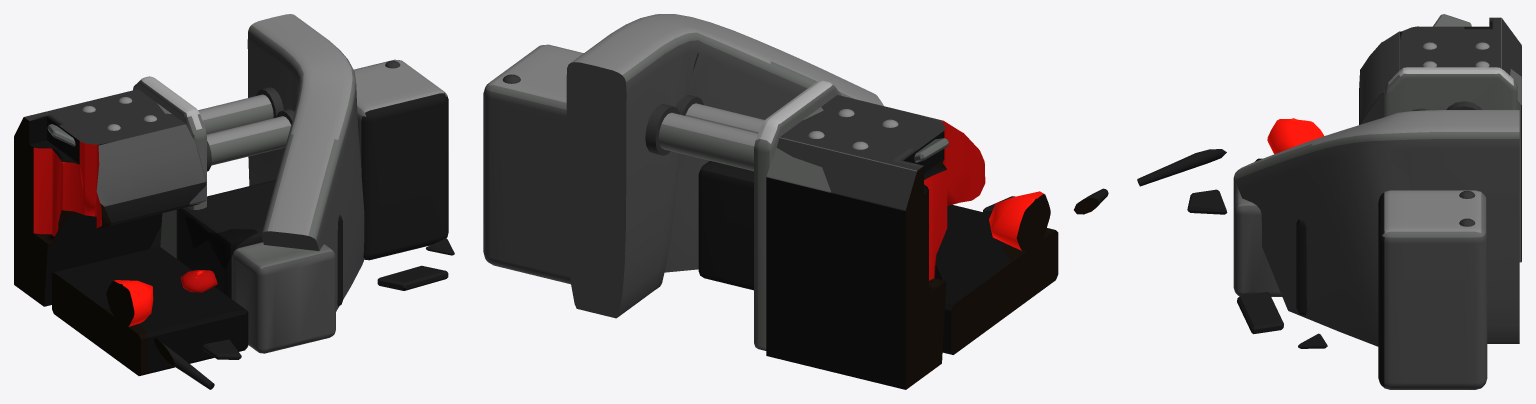
File: jaw_gun_a_right_wreck.glb
The picture shows the model from 3 angles, left to right: view 1: azimuth 30°, elevation 25°; view 2: azimuth 150°, elevation 25°; view 3: azimuth 270°, elevation 25°; orthographic projection. The views are drawn at different scales.
Visible parts, largest first — view 1: upper_jaw.001, bracket.001, pod.001, mouth_floor.001, bracket_foot.001, base.001, flange.001, rod1.001, rod0.001, ember3.001, shard3.001, charred_fang3.001 (+2 smaller); view 2: upper_jaw.001, bracket.001, pod.001, mouth_floor.001, base.001, flange.001, rod0.001, ember3.001, rod1.001, rod0_collar1.001; view 3: bracket.001, pod.001, upper_jaw.001, flange.001, bracket_foot.001, shard3.001, ember3.001, charred_fang3.001, base.001, shard2.001, petal2.001.
Boxes of the visible parts, <box> form: upper_jaw.001: <box>14,89,206,306</box>; bracket.001: <box>247,14,364,311</box>; pod.001: <box>354,59,448,260</box>; mouth_floor.001: <box>52,246,248,375</box>; bracket_foot.001: <box>232,242,335,353</box>; base.001: <box>176,179,342,306</box>; flange.001: <box>133,76,206,258</box>; rod1.001: <box>206,116,291,165</box>; rod0.001: <box>198,94,273,134</box>; ember3.001: <box>106,280,153,327</box>; shard3.001: <box>377,265,448,290</box>; charred_fang3.001: <box>153,338,214,389</box>; upper_jaw.001: <box>766,95,985,389</box>; bracket.001: <box>566,14,883,318</box>; pod.001: <box>483,44,583,284</box>; mouth_floor.001: <box>935,204,1058,354</box>; base.001: <box>698,160,753,290</box>; flange.001: <box>754,80,841,350</box>; rod0.001: <box>658,112,757,171</box>; ember3.001: <box>989,191,1050,251</box>; rod1.001: <box>685,103,764,133</box>; rod0_collar1.001: <box>645,104,679,155</box>; bracket.001: <box>1234,110,1519,346</box>; pod.001: <box>1378,190,1487,389</box>; upper_jaw.001: <box>1359,17,1521,262</box>; flange.001: <box>1384,67,1517,116</box>; bracket_foot.001: <box>1233,172,1282,296</box>; shard3.001: <box>1237,292,1283,334</box>; ember3.001: <box>1267,119,1323,153</box>; charred_fang3.001: <box>1137,149,1226,186</box>; base.001: <box>1296,219,1307,315</box>; shard2.001: <box>1187,189,1227,214</box>; petal2.001: <box>1433,14,1471,26</box>.
Size of the model in its own units: 22.4 by 11.85 by 19.03.
